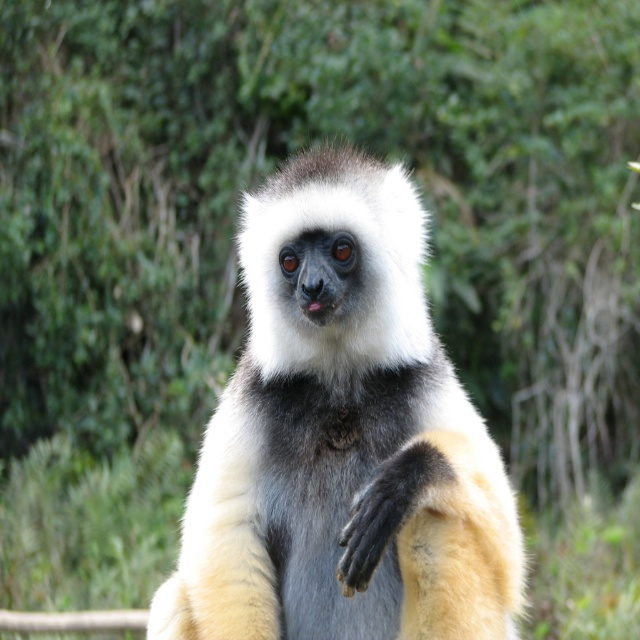Monkey: (145, 121, 539, 640)
